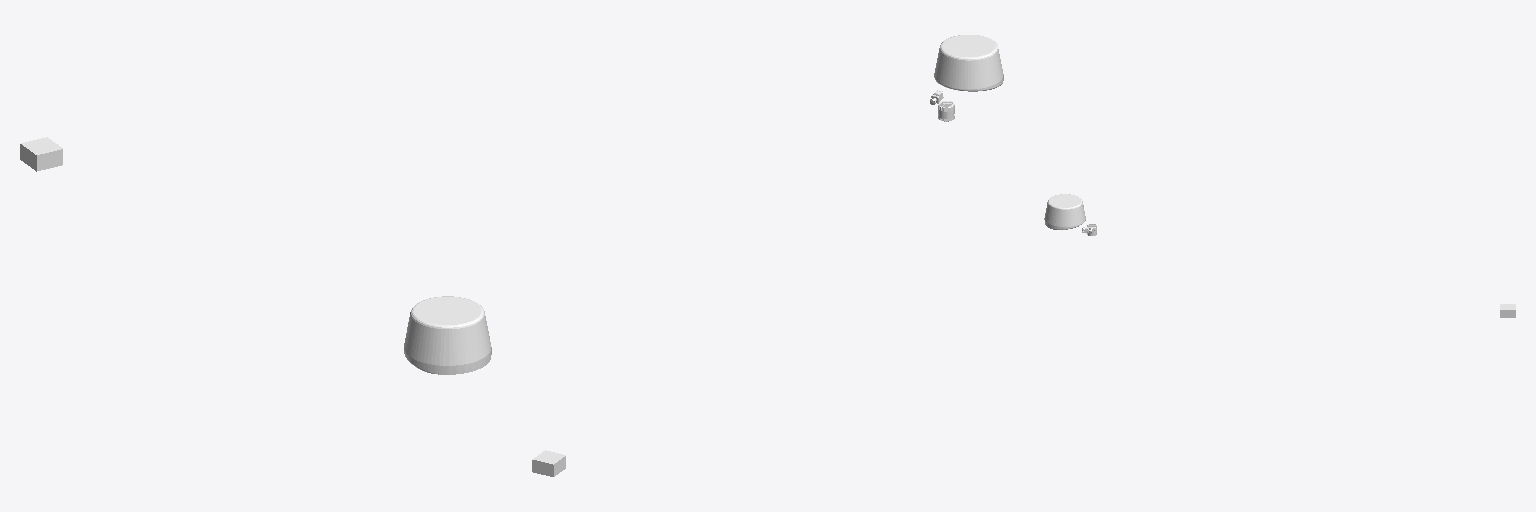
The robot description file, URDF, robot "c1_model":
<?xml version="1.0" encoding="utf-8"?>
<!-- This URDF was automatically created by SolidWorks to URDF Exporter! Originally created by Stephen Brawner ([email redacted]) 
     Commit Version: 1.6.0-1-g15f4949  Build Version: 1.6.7594.29634
     For more information, please see http://wiki.ros.org/sw_urdf_exporter -->
<robot
  name="c1_model">
  <link
    name="base_link">
    <inertial>
      <origin
        xyz="0.0165877844833981 -0.16215373397142 0.411674055977145"
        rpy="0 0 0" />
      <mass
        value="557.012789283806" />
      <inertia
        ixx="125.432073563605"
        ixy="0.0377127209192348"
        ixz="-0.035041772103028"
        iyy="58.7470119318233"
        iyz="-0.433874052544894"
        izz="140.467827327523" />
    </inertial>
    <visual>
      <origin
        xyz="0 0 0"
        rpy="0 0 0" />
      <geometry>
        <mesh
          filename="package://c1_model/meshes/base_link.STL" />
      </geometry>
      <material
        name="">
        <color
          rgba="1 1 1 1" />
      </material>
    </visual>
    <collision>
      <origin
        xyz="0 0 0"
        rpy="0 0 0" />
      <geometry>
        <mesh
          filename="package://c1_model/meshes/base_link.STL" />
      </geometry>
    </collision>
  </link>
  <link
    name="imu_link">
    <inertial>
      <origin
        xyz="2.22044604925031E-16 0 0.0500000000000069"
        rpy="0 0 0" />
      <mass
        value="3.114000310068" />
      <inertia
        ixx="0.0110028010955736"
        ixy="-5.15718827153449E-18"
        ixz="3.33031672930071E-19"
        iyy="0.0103615780783965"
        iyz="1.77296181596484E-19"
        izz="0.0161743786571902" />
    </inertial>
    <visual>
      <origin
        xyz="0 0 0"
        rpy="0 0 0" />
      <geometry>
        <mesh
          filename="package://c1_model/meshes/imu_link.STL" />
      </geometry>
      <material
        name="">
        <color
          rgba="1 1 1 1" />
      </material>
    </visual>
    <collision>
      <origin
        xyz="0 0 0"
        rpy="0 0 0" />
      <geometry>
        <mesh
          filename="package://c1_model/meshes/imu_link.STL" />
      </geometry>
    </collision>
  </link>
  <joint
    name="imu_joint"
    type="fixed">
    <origin
      xyz="0.4075 2.969 0.654"
      rpy="0 0 0" />
    <parent
      link="base_link" />
    <child
      link="imu_link" />
    <axis
      xyz="0 0 0" />
  </joint>
  <link
    name="lidar_link">
    <inertial>
      <origin
        xyz="-0.0168445578075236 -1.64257821201275 -0.995686355088263"
        rpy="0 0 0" />
      <mass
        value="3029.94167654815" />
      <inertia
        ixx="10031.9593667266"
        ixy="-37.0832026754527"
        ixz="20.3218951508474"
        iyy="3303.4723170986"
        iyz="-774.256260114534"
        izz="10950.7902808171" />
    </inertial>
    <visual>
      <origin
        xyz="0 0 0"
        rpy="0 0 0" />
      <geometry>
        <mesh
          filename="package://c1_model/meshes/lidar_link.STL" />
      </geometry>
      <material
        name="">
        <color
          rgba="1 1 1 1" />
      </material>
    </visual>
    <collision>
      <origin
        xyz="0 0 0"
        rpy="0 0 0" />
      <geometry>
        <mesh
          filename="package://c1_model/meshes/lidar_link.STL" />
      </geometry>
    </collision>
  </link>
  <joint
    name="lidar_joint"
    type="fixed">
    <origin
      xyz="0.001 -1.9422 1.5122"
      rpy="0 0 3.1416" />
    <parent
      link="base_link" />
    <child
      link="lidar_link" />
    <axis
      xyz="0 0 0" />
  </joint>
  <link
    name="camera_link">
    <inertial>
      <origin
        xyz="0.0234693653349585 -0.000532821852490262 0.0309998773292506"
        rpy="0 0 0" />
      <mass
        value="0.13971228039181" />
      <inertia
        ixx="5.36263077395645E-05"
        ixy="-1.36433239003493E-06"
        ixz="-8.10977923292844E-07"
        iyy="5.48506577208851E-05"
        iyz="1.14961942556238E-07"
        izz="5.63987185939724E-05" />
    </inertial>
    <visual>
      <origin
        xyz="0 0 0"
        rpy="0 0 0" />
      <geometry>
        <mesh
          filename="package://c1_model/meshes/camera_link.STL" />
      </geometry>
      <material
        name="">
        <color
          rgba="1 1 1 1" />
      </material>
    </visual>
    <collision>
      <origin
        xyz="0 0 0"
        rpy="0 0 0" />
      <geometry>
        <mesh
          filename="package://c1_model/meshes/camera_link.STL" />
      </geometry>
    </collision>
  </link>
  <joint
    name="camera_joint"
    type="fixed">
    <origin
      xyz="0.116 -2.027 1.5907"
      rpy="0 0.13963 1.5708" />
    <parent
      link="base_link" />
    <child
      link="camera_link" />
    <axis
      xyz="0 0 0" />
  </joint>
  <link
    name="radar_link">
    <inertial>
      <origin
        xyz="-0.00379414525323696 3.01626102316987E-07 -0.133979639071674"
        rpy="0 0 0" />
      <mass
        value="44.9397297823419" />
      <inertia
        ixx="0.86750049296967"
        ixy="-1.96864111832946E-07"
        ixz="0.0215740669468712"
        iyy="0.856790340415599"
        iyz="-4.04567124056999E-07"
        izz="1.17115247716322" />
    </inertial>
    <visual>
      <origin
        xyz="0 0 0"
        rpy="0 0 0" />
      <geometry>
        <mesh
          filename="package://c1_model/meshes/radar_link.STL" />
      </geometry>
      <material
        name="">
        <color
          rgba="1 1 1 1" />
      </material>
    </visual>
    <collision>
      <origin
        xyz="0 0 0"
        rpy="0 0 0" />
      <geometry>
        <mesh
          filename="package://c1_model/meshes/radar_link.STL" />
      </geometry>
    </collision>
  </link>
  <joint
    name="radar_joint"
    type="fixed">
    <origin
      xyz="0.001 -2.2602 1.6672"
      rpy="3.1416 0 1.5708" />
    <parent
      link="base_link" />
    <child
      link="radar_link" />
    <axis
      xyz="0 0 0" />
  </joint>
  <link
    name="ir_camera_link">
    <inertial>
      <origin
        xyz="0.0249132476958029 -0.00343767069747569 0.0330925970526206"
        rpy="0 0 0" />
      <mass
        value="0.167780089744666" />
      <inertia
        ixx="6.31226840457948E-05"
        ixy="-7.91136309750403E-07"
        ixz="-6.41716259166338E-07"
        iyy="0.00010742966343486"
        iyz="3.8713675328671E-07"
        izz="0.000112021722734289" />
    </inertial>
    <visual>
      <origin
        xyz="0 0 0"
        rpy="0 0 0" />
      <geometry>
        <mesh
          filename="package://c1_model/meshes/ir_camera_link.STL" />
      </geometry>
      <material
        name="">
        <color
          rgba="1 1 1 1" />
      </material>
    </visual>
    <collision>
      <origin
        xyz="0 0 0"
        rpy="0 0 0" />
      <geometry>
        <mesh
          filename="package://c1_model/meshes/ir_camera_link.STL" />
      </geometry>
    </collision>
  </link>
  <joint
    name="ir_camera_joint"
    type="fixed">
    <origin
      xyz="-0.114 -2.027 1.5907"
      rpy="0 0.13963 1.5708" />
    <parent
      link="base_link" />
    <child
      link="ir_camera_link" />
    <axis
      xyz="0 0 1" />
  </joint>
</robot>

--- Facts derived from the render (not from the file) ---
Views: 3 orthographic renders of the robot side by side, from view 1: azimuth 30°, elevation 25°; view 2: azimuth 150°, elevation 25°; view 3: azimuth 270°, elevation 25°.
Robot: c1_model — 6 links, 5 joints (5 fixed); root link base_link; default pose: every joint at zero.
Visible links, largest first — view 1: radar_link, imu_link; view 2: radar_link, imu_link; view 3: radar_link.
Boxes of the visible links, <box> form: radar_link: <box>404,296,491,374</box>; imu_link: <box>20,137,62,171</box>; radar_link: <box>934,35,1003,91</box>; imu_link: <box>532,450,565,476</box>; radar_link: <box>1044,194,1085,229</box>.
Size in the robot's own frame: 0.7378 by 5.56 by 1.29 metres.
Meshes: 6 distinct files referenced, 4 mesh visuals loaded (4 binary STL); not drawn: 2 (reference not matched to a file when rendering).
